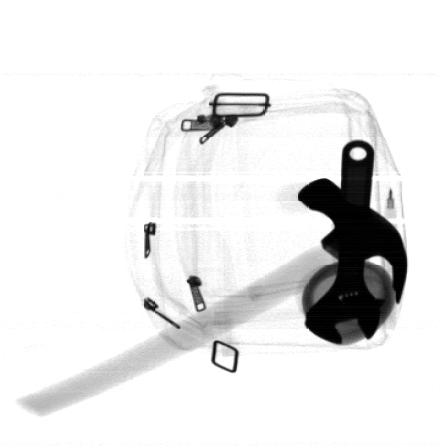Hammer: (13, 176, 408, 417)
Wrench: (305, 140, 384, 346)
